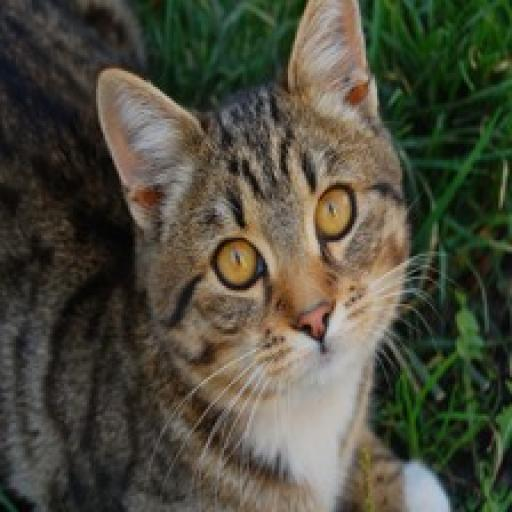cat: (0, 0, 503, 510)
